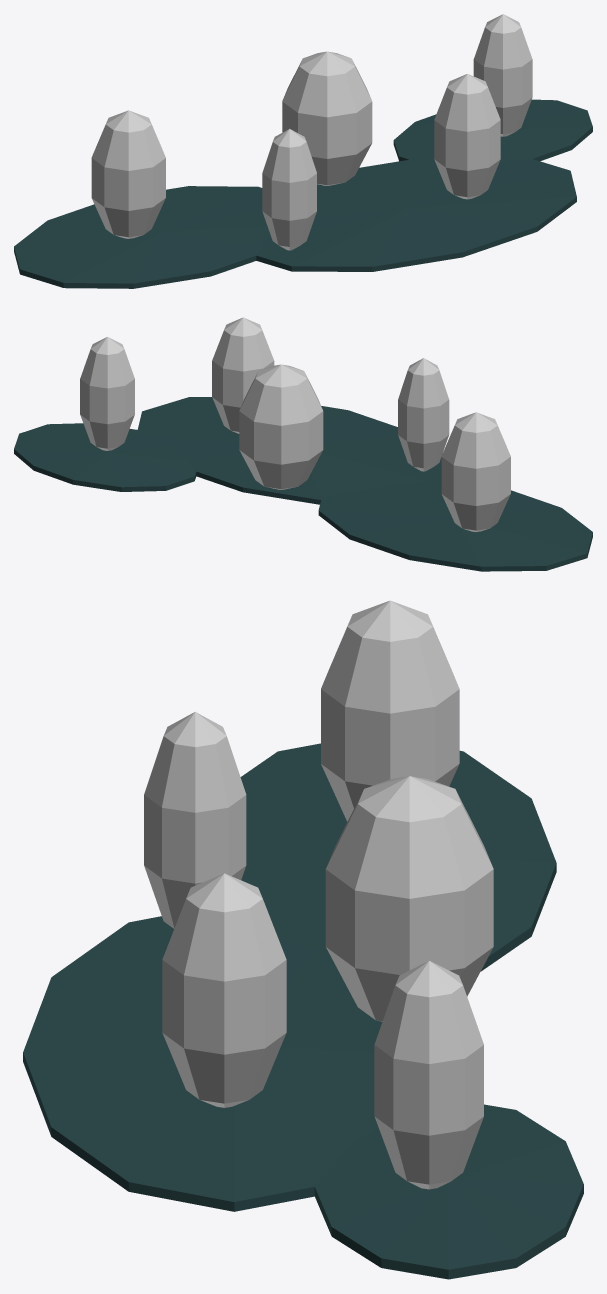
Rendered from anoxic_colony_a.obj.
3 renders of one model, top to bottom at view 1: azimuth 30°, elevation 25°; view 2: azimuth 150°, elevation 25°; view 3: azimuth 270°, elevation 25°, orthographic. The views are drawn at different scales.
Parts seen in each view (by area): view 1: film_1, film_0, bladder_2, bladder_0, bladder_3, film_2, bladder_1, bladder_4; view 2: film_0, film_1, bladder_2, film_2, bladder_0, bladder_4, bladder_1, bladder_3; view 3: film_1, bladder_2, film_2, film_0, bladder_3, bladder_0, bladder_4, bladder_1.
Part boxes in pixels (x1,y1,x2,y2): film_1: [256, 159, 576, 271]; film_0: [14, 186, 269, 288]; bladder_2: [282, 51, 372, 185]; bladder_0: [91, 110, 165, 238]; bladder_3: [434, 74, 500, 199]; film_2: [393, 99, 592, 161]; bladder_1: [262, 129, 316, 250]; bladder_4: [473, 14, 532, 136]; film_0: [318, 479, 592, 571]; film_1: [137, 397, 441, 504]; bladder_2: [239, 364, 323, 489]; film_2: [14, 423, 196, 491]; bladder_0: [441, 412, 510, 532]; bladder_4: [80, 337, 134, 450]; bladder_1: [398, 358, 449, 471]; bladder_3: [212, 317, 274, 433]; film_1: [23, 916, 382, 1211]; bladder_2: [325, 776, 493, 1021]; film_2: [314, 1104, 583, 1279]; film_0: [240, 743, 556, 971]; bladder_3: [162, 873, 286, 1107]; bladder_0: [321, 600, 459, 821]; bladder_4: [374, 960, 483, 1189]; bladder_1: [144, 712, 246, 928].
Size of the model in its own units: 6.5 by 1.48 by 2.88.
